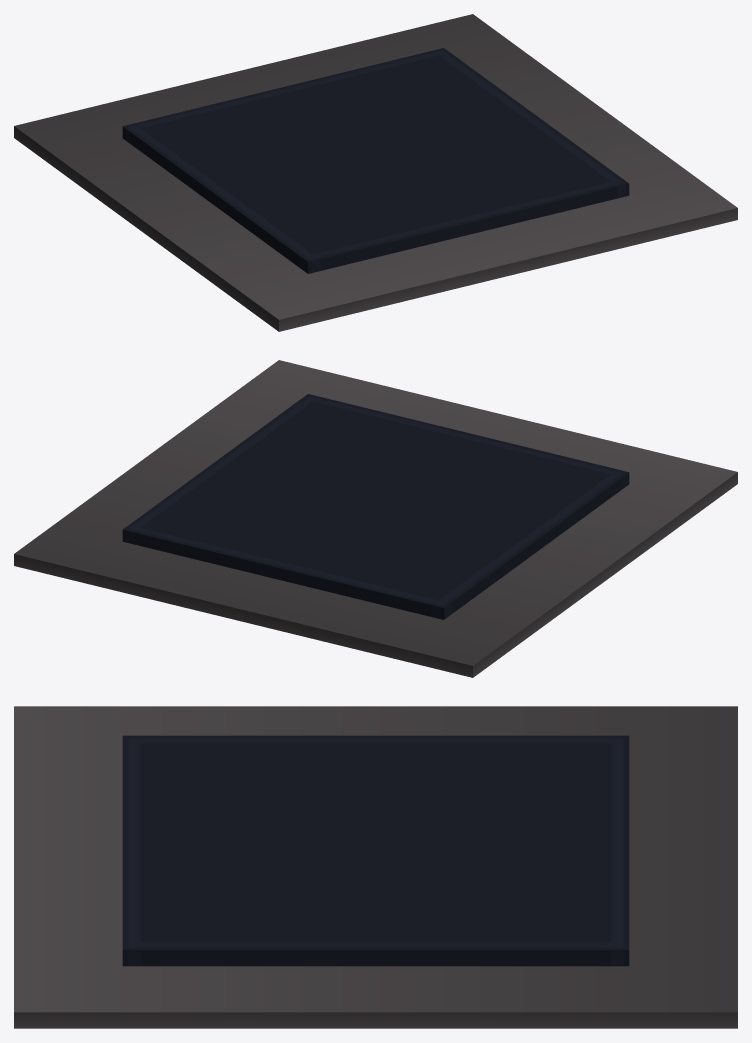
The model's file is KIT_Floor_4x4_Grate.glb.
The picture shows the model from 3 angles, top to bottom: view 1: azimuth 30°, elevation 25°; view 2: azimuth 150°, elevation 25°; view 3: azimuth 270°, elevation 25°; orthographic projection. The views are drawn at different scales.
Visible parts, largest first — view 1: KIT_Floor_4x4_Grate; view 2: KIT_Floor_4x4_Grate; view 3: KIT_Floor_4x4_Grate.
Part boxes in pixels (left/top/right/bottom): KIT_Floor_4x4_Grate: left=14, top=14, right=737, bottom=331; KIT_Floor_4x4_Grate: left=14, top=360, right=737, bottom=677; KIT_Floor_4x4_Grate: left=14, top=706, right=737, bottom=1028.
Size of the model in its own units: 4 by 0.2 by 4.
Materials: 1 (1 with a texture image).
